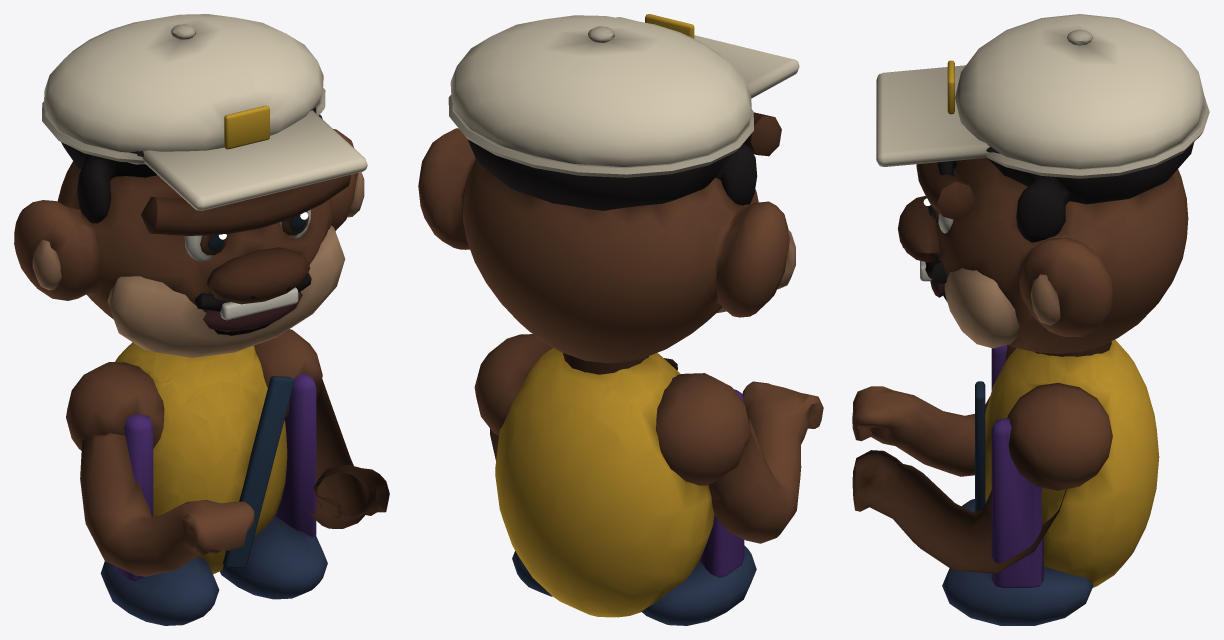
The model's file is morly.glb.
3 renders of one model, left to right at view 1: azimuth 30°, elevation 25°; view 2: azimuth 150°, elevation 25°; view 3: azimuth 270°, elevation 25°, orthographic. The views are drawn at different scales.
Parts seen in each view (by area): view 1: morly-head-root-fff2d4-r80, morly-head-root-soft-7d4e33, morly-root-soft-f5bc32, morly-arm-right-soft-7d4e33, morly-root-344465-r85, morly-head-root-5a3522-r70, morly-head-root-d2a47c-r70, morly-root-7d4e33-r70, morly-root-613991-r70, morly-arm-left-soft-7d4e33, morly-root-263b54-r70, morly-head-root-soft-1f1a1b (+7 smaller); view 2: morly-head-root-soft-7d4e33, morly-root-soft-f5bc32, morly-head-root-fff2d4-r80, morly-root-7d4e33-r70, morly-arm-right-soft-7d4e33, morly-head-root-soft-1f1a1b, morly-root-344465-r85, morly-head-root-d1c6ae-r80, morly-root-613991-r70, morly-head-root-5a3522-r70; view 3: morly-head-root-fff2d4-r80, morly-head-root-soft-7d4e33, morly-root-soft-f5bc32, morly-arm-left-soft-7d4e33, morly-root-7d4e33-r70, morly-arm-right-soft-7d4e33, morly-root-613991-r70, morly-root-344465-r85, morly-head-root-soft-1f1a1b, morly-head-root-5a3522-r70, morly-head-root-d2a47c-r70, morly-head-root-d1c6ae-r80 (+2 smaller).
Part boxes in pixels (<box>): morly-head-root-fff2d4-r80: <box>43,14,367,210</box>; morly-head-root-soft-7d4e33: <box>14,129,358,319</box>; morly-root-soft-f5bc32: <box>115,342,287,574</box>; morly-arm-right-soft-7d4e33: <box>80,433,254,576</box>; morly-root-344465-r85: <box>100,515,327,625</box>; morly-head-root-5a3522-r70: <box>141,174,351,304</box>; morly-head-root-d2a47c-r70: <box>107,225,345,357</box>; morly-root-7d4e33-r70: <box>66,329,322,450</box>; morly-root-613991-r70: <box>113,374,316,581</box>; morly-arm-left-soft-7d4e33: <box>304,379,389,528</box>; morly-root-263b54-r70: <box>223,376,294,568</box>; morly-head-root-soft-1f1a1b: <box>61,107,322,223</box>; morly-head-root-soft-7d4e33: <box>418,128,789,363</box>; morly-root-soft-f5bc32: <box>495,348,714,617</box>; morly-head-root-fff2d4-r80: <box>450,15,799,166</box>; morly-root-7d4e33-r70: <box>474,334,750,485</box>; morly-arm-right-soft-7d4e33: <box>708,381,823,543</box>; morly-head-root-soft-1f1a1b: <box>467,139,757,210</box>; morly-root-344465-r85: <box>512,545,756,625</box>; morly-head-root-d1c6ae-r80: <box>448,26,753,177</box>; morly-root-613991-r70: <box>700,389,744,577</box>; morly-head-root-5a3522-r70: <box>743,112,781,156</box>; morly-head-root-fff2d4-r80: <box>876,14,1204,168</box>; morly-head-root-soft-7d4e33: <box>934,158,1188,353</box>; morly-root-soft-f5bc32: <box>985,339,1159,587</box>; morly-arm-left-soft-7d4e33: <box>852,450,1066,573</box>; morly-root-7d4e33-r70: <box>1005,341,1112,490</box>; morly-arm-right-soft-7d4e33: <box>852,386,989,476</box>; morly-root-613991-r70: <box>991,345,1043,587</box>; morly-root-344465-r85: <box>942,499,1093,625</box>; morly-head-root-soft-1f1a1b: <box>986,142,1194,242</box>; morly-head-root-5a3522-r70: <box>898,162,975,262</box>; morly-head-root-d2a47c-r70: <box>944,268,1019,348</box>; morly-head-root-d1c6ae-r80: <box>986,29,1209,178</box>.
Size of the model in its own units: 1.34 by 2.14 by 1.24.
